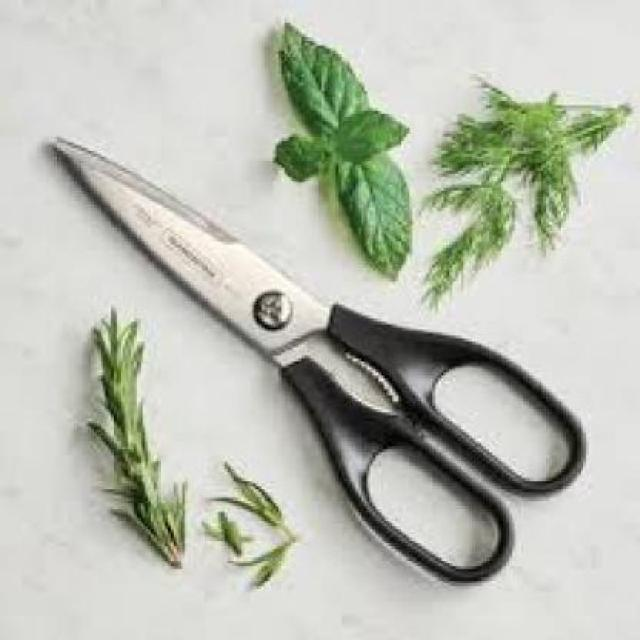scissors: (46, 130, 592, 590)
